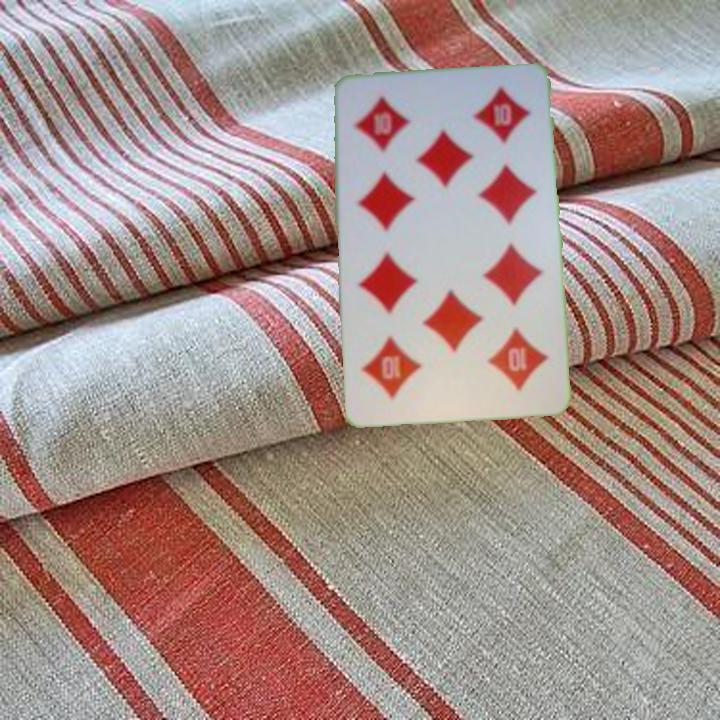d_10.png: (343, 84, 448, 175), (450, 315, 555, 406)
